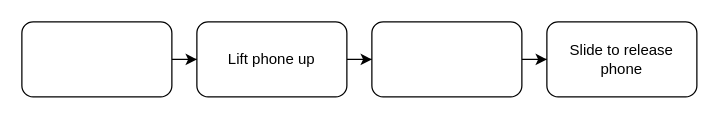
The diagram is 719 pixels wide and 119 high, and some of its shapes have lost their labels. The shapes that lost their labels are listed below. From the top down, each one's centre as x and y in pixels, then its label:
At (x=96, y=59): "Pick up phone from top".
At (x=446, y=59): "Put phone down".
